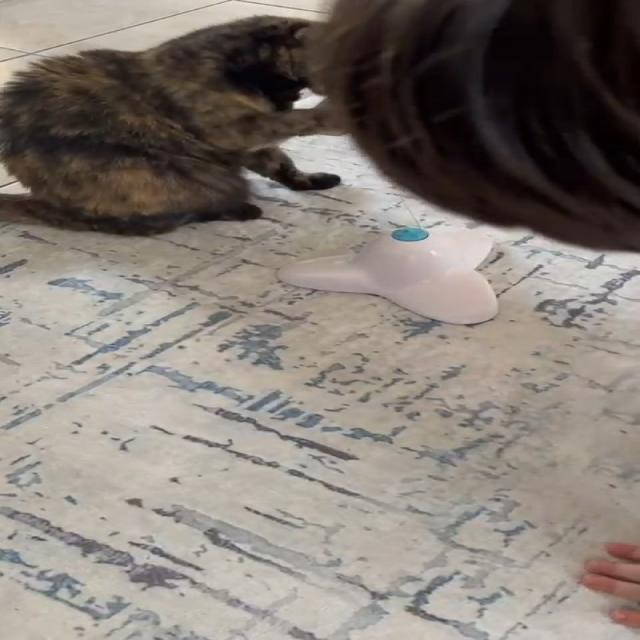authorized: (0, 14, 348, 237)
